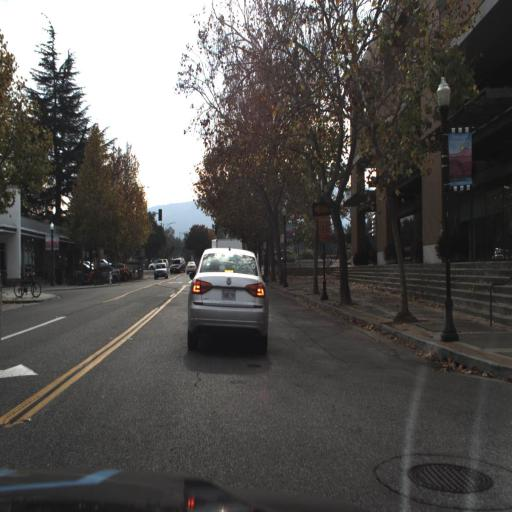car: (183, 245, 271, 358), (102, 265, 121, 285), (152, 259, 169, 281), (116, 265, 132, 282), (186, 259, 195, 274)
trafficLight-Red: (213, 221, 219, 235)
